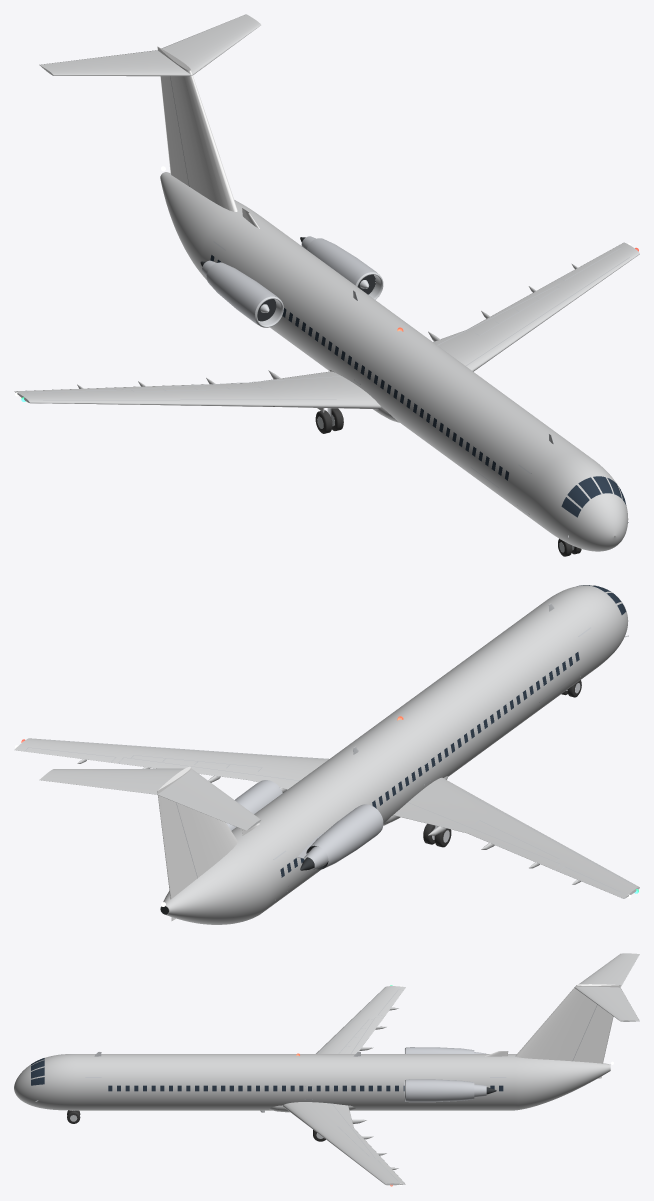
3 renders of one model, top to bottom at view 1: azimuth 30°, elevation 25°; view 2: azimuth 150°, elevation 25°; view 3: azimuth 270°, elevation 25°, orthographic. The views are drawn at different scales.
Parts seen in each view (by area): view 1: airframe, gear; view 2: airframe, gear; view 3: airframe.
Boxes of the visible parts, x1,y1,x2,y2 form: airframe: (14,14,639,551); gear: (315,408,581,556); airframe: (14,585,639,924); gear: (423,680,581,847); airframe: (14,953,639,1186).
Size of the model in its own units: 28.82 by 9.2 by 38.2.
